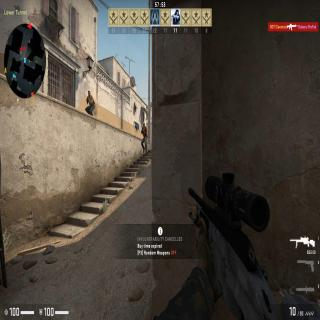T-Body: (86, 90, 96, 116), (141, 120, 148, 155)
T-Head: (87, 90, 91, 96), (143, 120, 145, 126)
